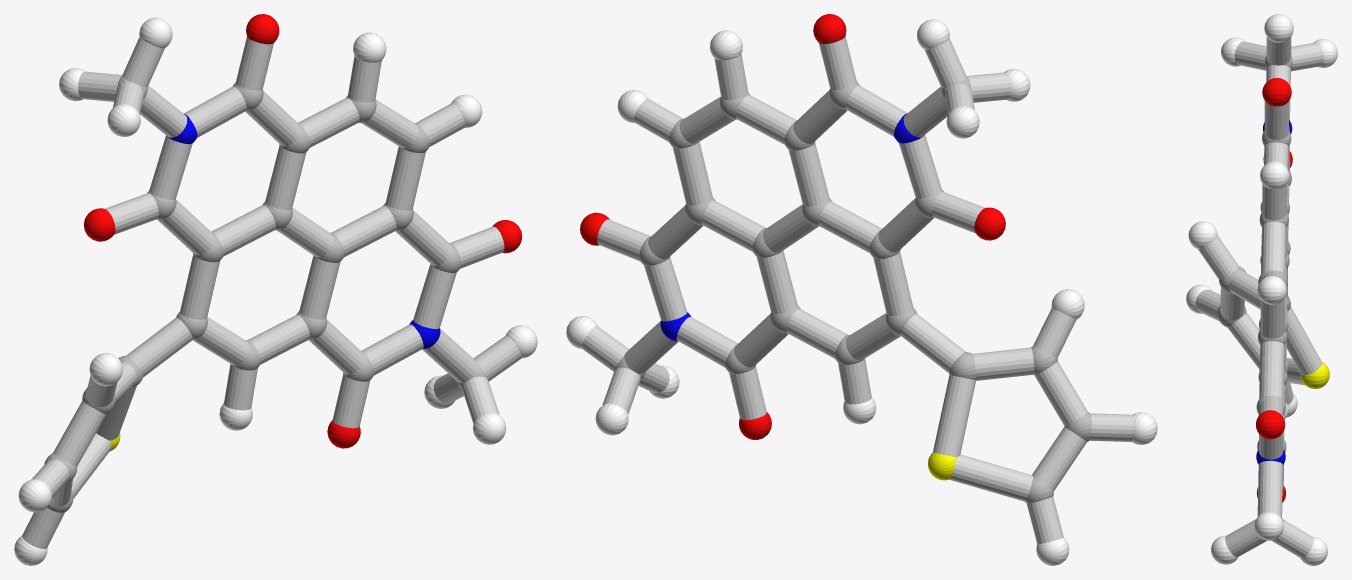
File: Dimethyl_Naphthalene_Dicarboximide_Phi_20_Theta_320_Thiophene.glb
The picture shows the model from 3 angles, left to right: view 1: azimuth 30°, elevation 25°; view 2: azimuth 150°, elevation 25°; view 3: azimuth 270°, elevation 25°; orthographic projection. The views are drawn at different scales.
Visible parts, largest first — view 1: grp14119, grp7241, grp1, grp12309, grp11585; view 2: grp14119, grp7241, grp1, grp12309, grp11585; view 3: grp14119, grp7241, grp1, grp12309, grp13757, grp11585.
Boxes of the visible parts, left/top/right/bottom form: grp14119: left=22, top=37, right=521, bottom=548; grp7241: left=14, top=17, right=537, bottom=565; grp1: left=44, top=76, right=486, bottom=513; grp12309: left=84, top=14, right=522, bottom=448; grp11585: left=167, top=114, right=440, bottom=348; grp14119: left=581, top=36, right=1133, bottom=544; grp7241: left=566, top=19, right=1157, bottom=565; grp1: left=615, top=77, right=1091, bottom=503; grp12309: left=580, top=14, right=1005, bottom=439; grp11585: left=660, top=113, right=924, bottom=341; grp14119: left=1195, top=37, right=1323, bottom=558; grp7241: left=1186, top=14, right=1337, bottom=565; grp1: left=1217, top=55, right=1292, bottom=521; grp12309: left=1256, top=78, right=1292, bottom=502; grp13757: left=1300, top=362, right=1329, bottom=388; grp11585: left=1256, top=120, right=1292, bottom=464.
Bounding box in the file's own units: 11.46 × 10.23 × 3.1.
